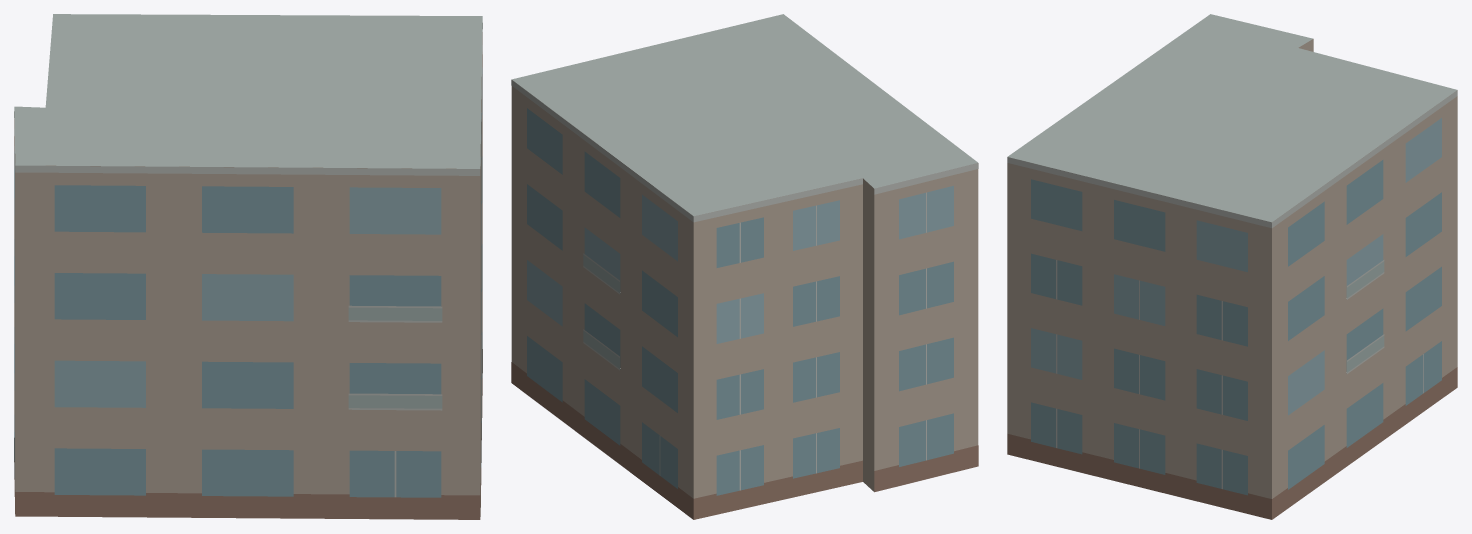
File: survey-upis-32706584.glb
3 views of the same model, side by side, from view 1: azimuth 30°, elevation 25°; view 2: azimuth 150°, elevation 25°; view 3: azimuth 270°, elevation 25° (orthographic). The views are drawn at different scales.
Parts seen in each view (by area): view 1: survey-upis-32706584.tmp; view 2: survey-upis-32706584.tmp; view 3: survey-upis-32706584.tmp.
Part boxes in pixels (x1=…): survey-upis-32706584.tmp: x1=14, y1=14, x2=482, y2=519; survey-upis-32706584.tmp: x1=511, y1=14, x2=978, y2=519; survey-upis-32706584.tmp: x1=1007, y1=14, x2=1457, y2=519.
Bounding box in the file's own units: 18.33 × 12.2 × 16.75.
